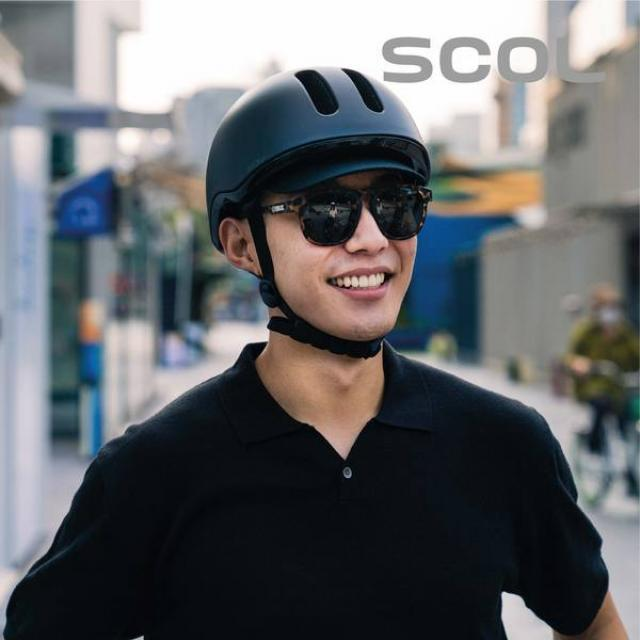Helmet: (194, 53, 440, 361)
